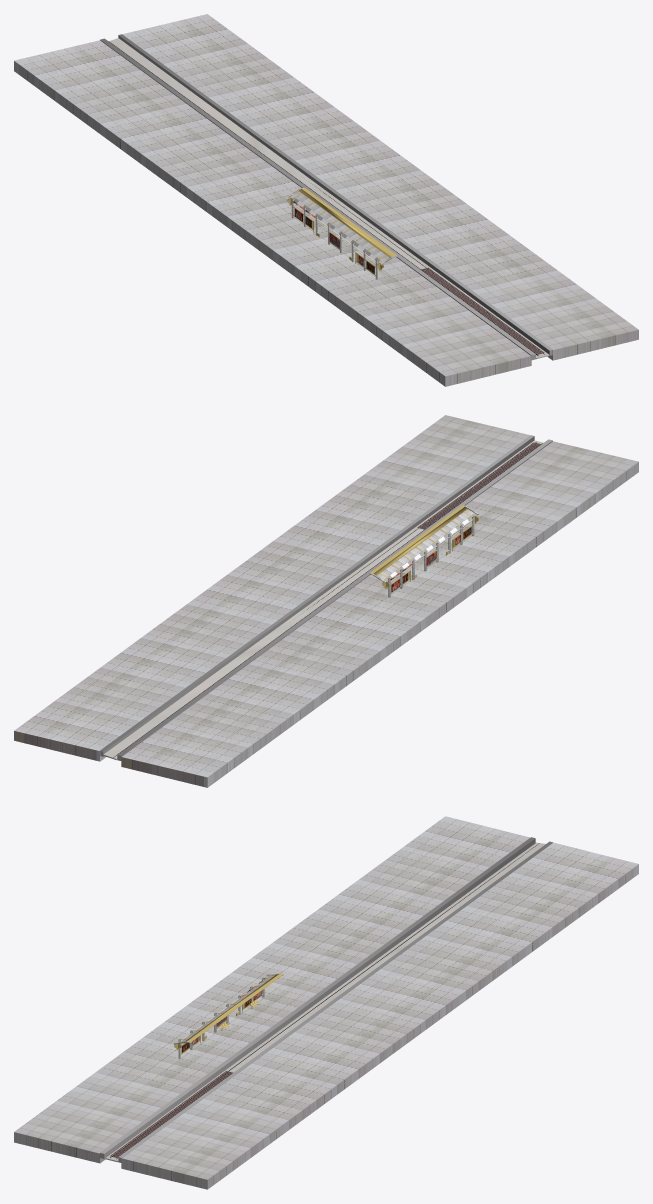
Rendered from chezhan01.fbx.
The picture shows the model from 3 angles, top to bottom: view 1: azimuth 30°, elevation 25°; view 2: azimuth 150°, elevation 25°; view 3: azimuth 330°, elevation 25°; orthographic projection.
Parts seen in each view (by area): view 1: chezhan; view 2: chezhan; view 3: chezhan.
Boxes of the visible parts, x1=… form: chezhan: x1=14, y1=14, x2=638, y2=386; chezhan: x1=14, y1=415, x2=638, y2=787; chezhan: x1=14, y1=816, x2=638, y2=1189.
Bounding box in the file's own units: 89.16 × 14.74 × 344.
